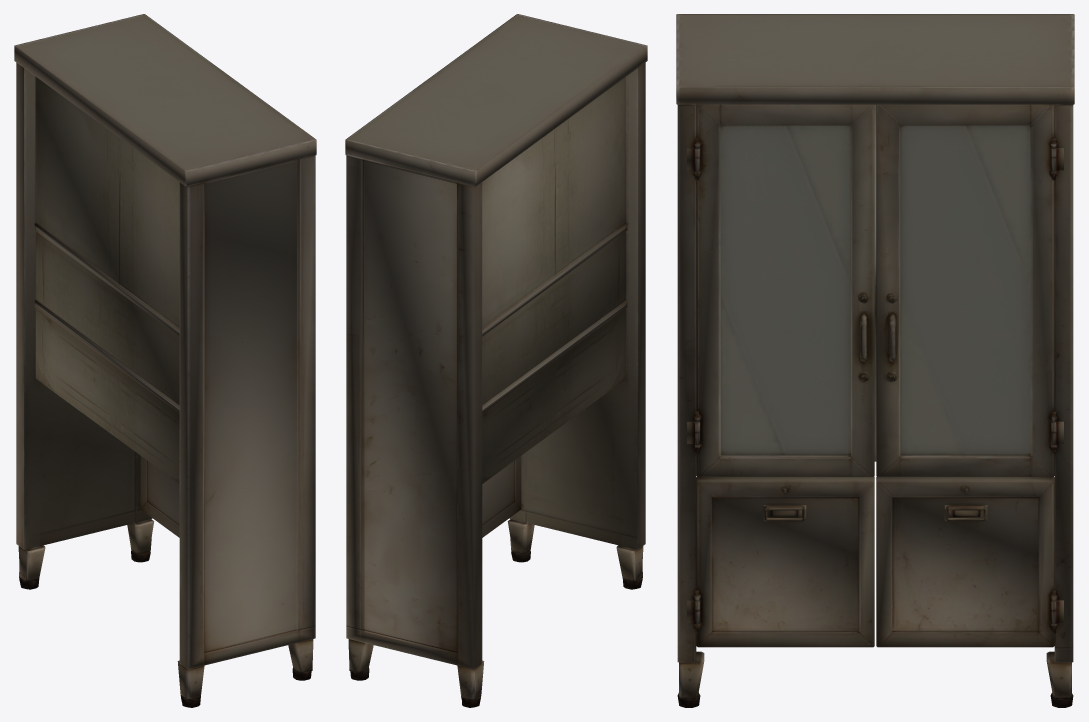
3 renders of one model, left to right at view 1: azimuth 30°, elevation 25°; view 2: azimuth 150°, elevation 25°; view 3: azimuth 270°, elevation 25°, orthographic. The views are drawn at different scales.
Parts seen in each view (by area): view 1: tripo_node_29d96d78-7311-43e5-83c7-223cc08a4aea; view 2: tripo_node_29d96d78-7311-43e5-83c7-223cc08a4aea; view 3: tripo_node_29d96d78-7311-43e5-83c7-223cc08a4aea.
Part boxes in pixels (x1,y1,x2,y2): tripo_node_29d96d78-7311-43e5-83c7-223cc08a4aea: [14, 14, 316, 707]; tripo_node_29d96d78-7311-43e5-83c7-223cc08a4aea: [345, 14, 647, 707]; tripo_node_29d96d78-7311-43e5-83c7-223cc08a4aea: [676, 14, 1074, 707].
Size of the model in its own units: 0.2598 by 0.998 by 0.5801.
1 material, 1 textured.
